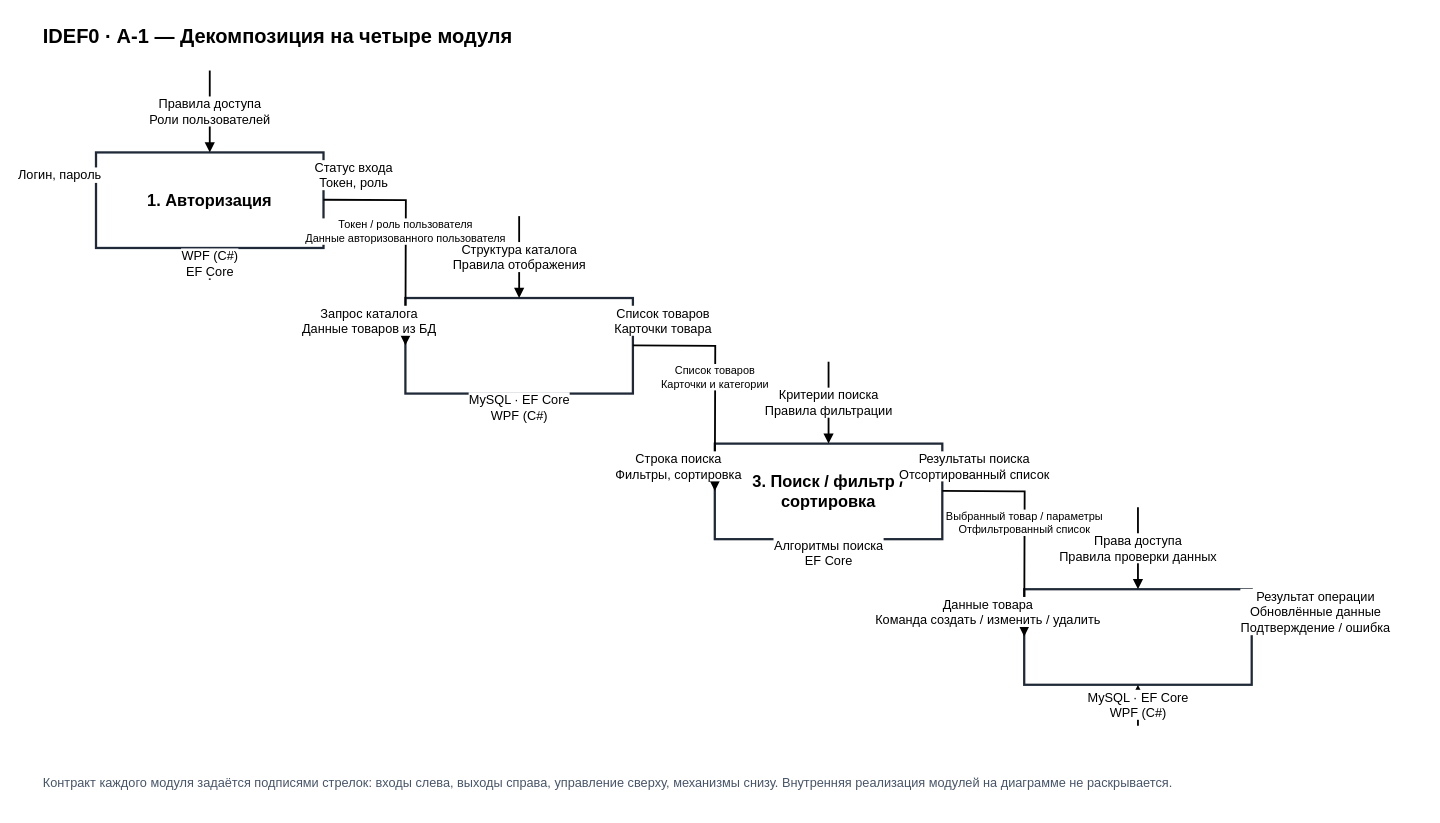
The diagram is 1440 pixels wide and 823 high, and some of its shapes have lost their labels. The box of each missing label's shape, as (x1, y1, x2, y2) in pixels:
2. Каталог: (404, 296, 634, 394)
4. CRUD товаров: (1023, 588, 1252, 686)
